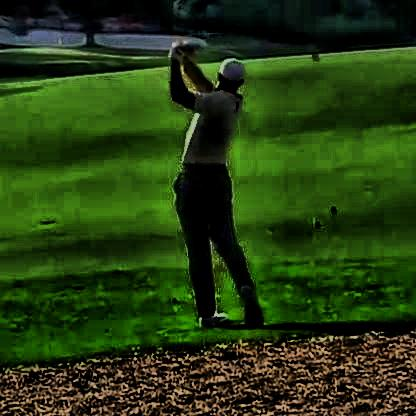golfball: (309, 211, 319, 222)
